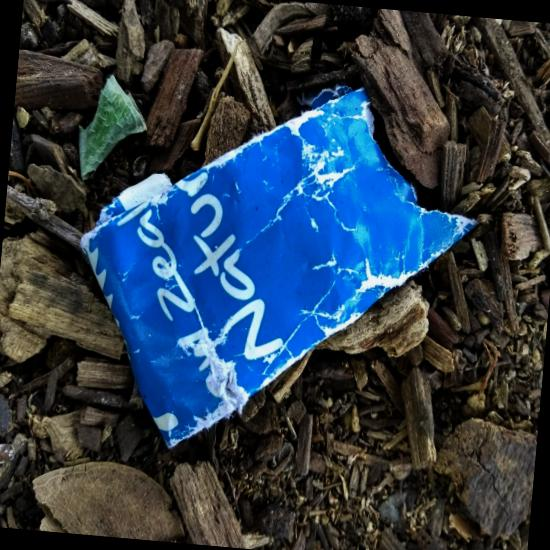Cigarette: (70, 72, 78, 78)
Clear plastic bottle: (159, 260, 197, 393)
Plastic bottle cap: (166, 385, 181, 394)
Plastic straw: (56, 277, 83, 342)
